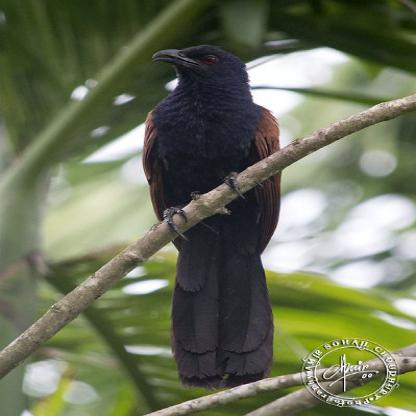Burung: (143, 43, 280, 388)
